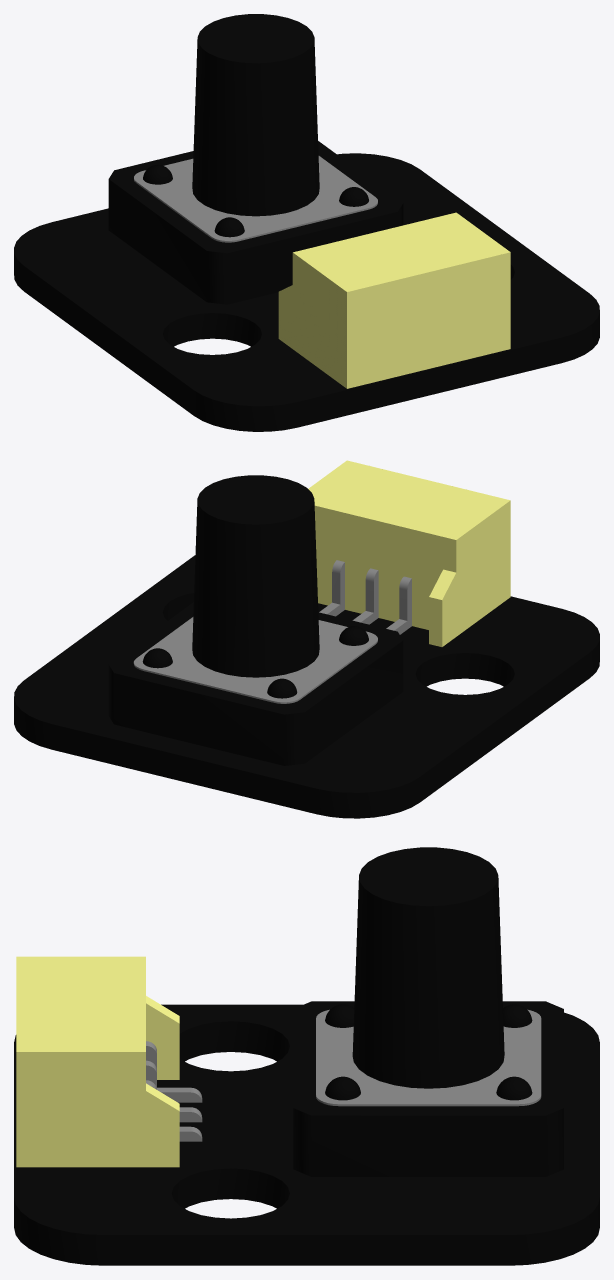
The model's file is electronics_008.obj.
The picture shows the model from 3 angles, top to bottom: view 1: azimuth 30°, elevation 25°; view 2: azimuth 150°, elevation 25°; view 3: azimuth 270°, elevation 25°; orthographic projection. The views are drawn at different scales.
Bounding box in the file's own units: 0.0242 × 0.0134 × 0.026.
